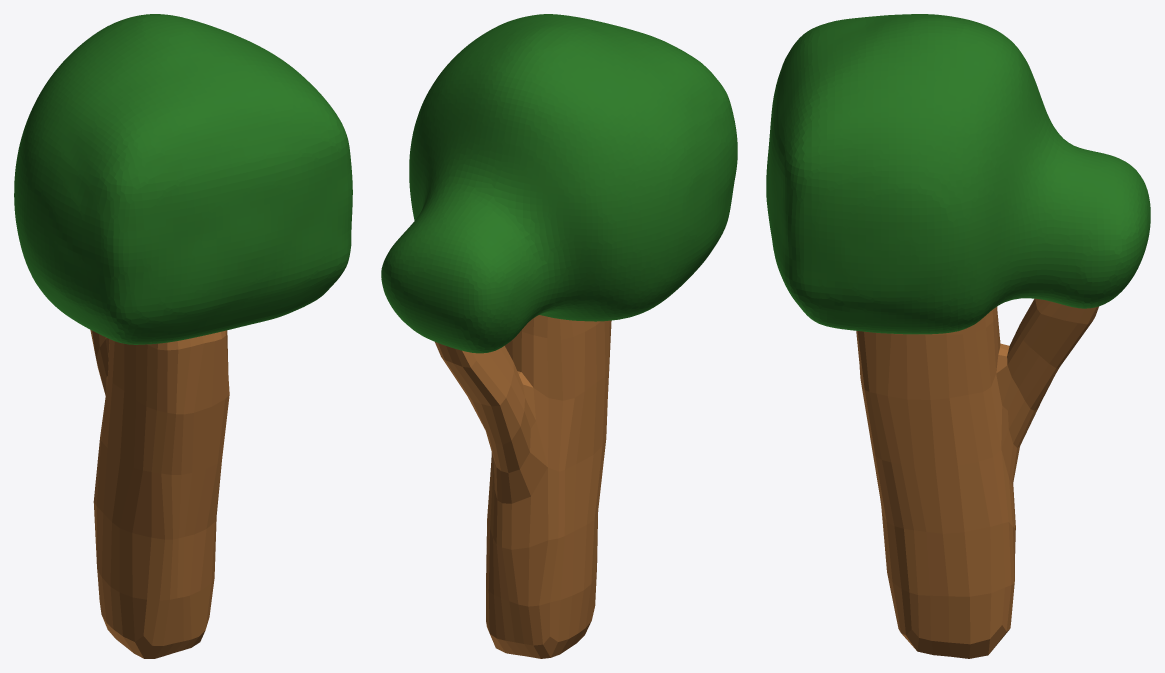
The model's file is TreeBasic.fbx.
3 renders of one model, left to right at view 1: azimuth 30°, elevation 25°; view 2: azimuth 150°, elevation 25°; view 3: azimuth 270°, elevation 25°, orthographic. The views are drawn at different scales.
Parts seen in each view (by area): view 1: Cube.001, Cube; view 2: Cube.001, Cube; view 3: Cube.001, Cube.
Boxes of the visible parts, left/top/right/bottom form: Cube.001: left=14, top=14, right=352, bottom=344; Cube: left=90, top=330, right=229, bottom=658; Cube.001: left=381, top=14, right=737, bottom=353; Cube: left=435, top=315, right=611, bottom=658; Cube.001: left=766, top=14, right=1150, bottom=334; Cube: left=856, top=298, right=1098, bottom=658.
Bounding box in the file's own units: 727 × 612 × 1297.
